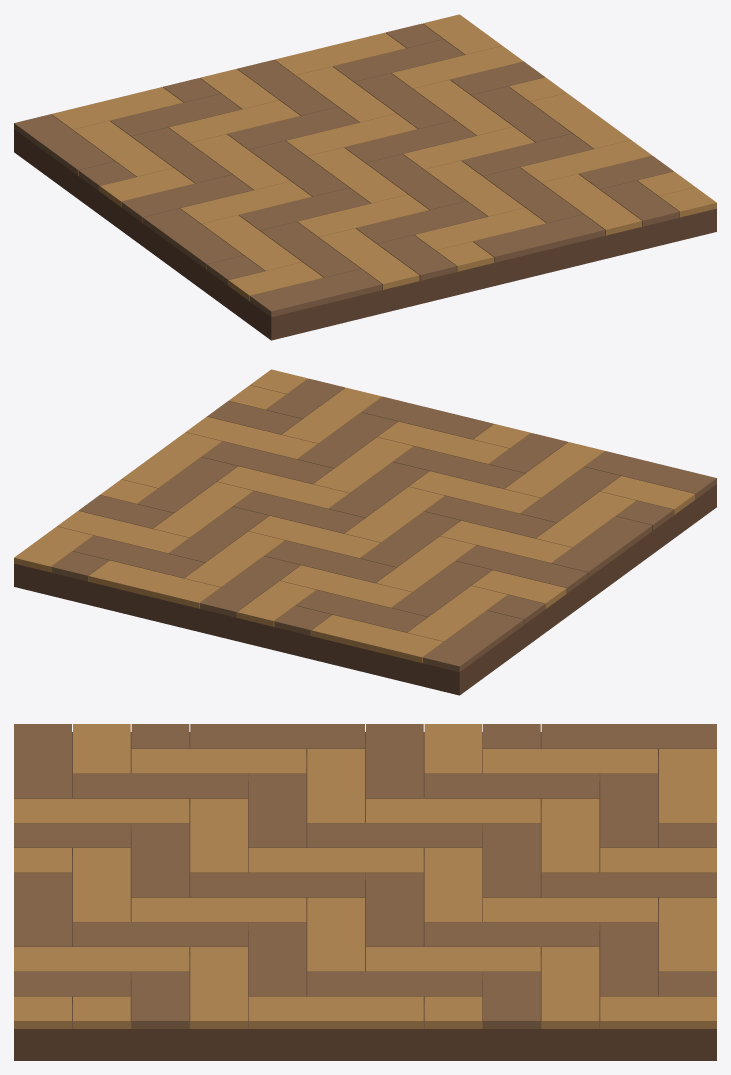
The model's file is rpg-mansion-herringbone-parquet-tile-01.glb.
3 views of the same model, one above another, from view 1: azimuth 30°, elevation 25°; view 2: azimuth 150°, elevation 25°; view 3: azimuth 270°, elevation 25° (orthographic). The views are drawn at different scales.
Parts seen in each view (by area): view 1: rpg-mansion-herringbone-parquet-tile-01; view 2: rpg-mansion-herringbone-parquet-tile-01; view 3: rpg-mansion-herringbone-parquet-tile-01.
Boxes of the visible parts, left/top/right/bottom form: rpg-mansion-herringbone-parquet-tile-01: left=14, top=14, right=716, bottom=340; rpg-mansion-herringbone-parquet-tile-01: left=14, top=369, right=716, bottom=695; rpg-mansion-herringbone-parquet-tile-01: left=14, top=724, right=716, bottom=1060.
Size of the model in its own units: 1.2 by 0.075 by 1.2.
